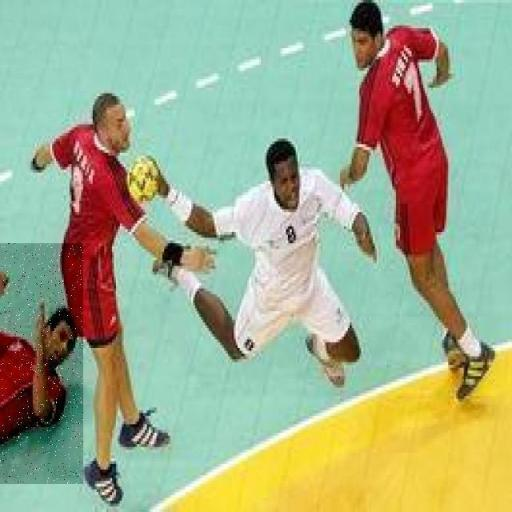Fall: (0, 243, 83, 484)
